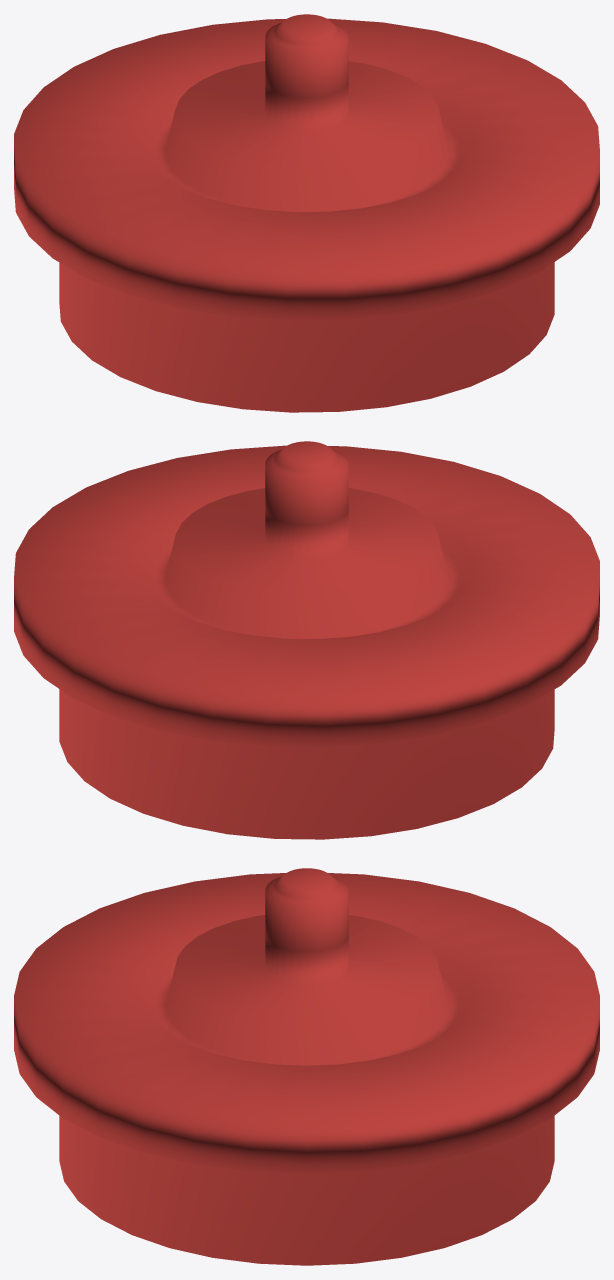
File: Lid.fbx
3 views of the same model, one above another, from view 1: azimuth 30°, elevation 25°; view 2: azimuth 150°, elevation 25°; view 3: azimuth 270°, elevation 25° (orthographic).
Parts seen in each view (by area): view 1: Cylinder.003; view 2: Cylinder.003; view 3: Cylinder.003.
Part boxes in pixels (x1=…): Cylinder.003: x1=14, y1=14, x2=599, y2=412; Cylinder.003: x1=14, y1=441, x2=599, y2=839; Cylinder.003: x1=14, y1=868, x2=599, y2=1265.
Bounding box in the file's own units: 167 × 88.7 × 167.
